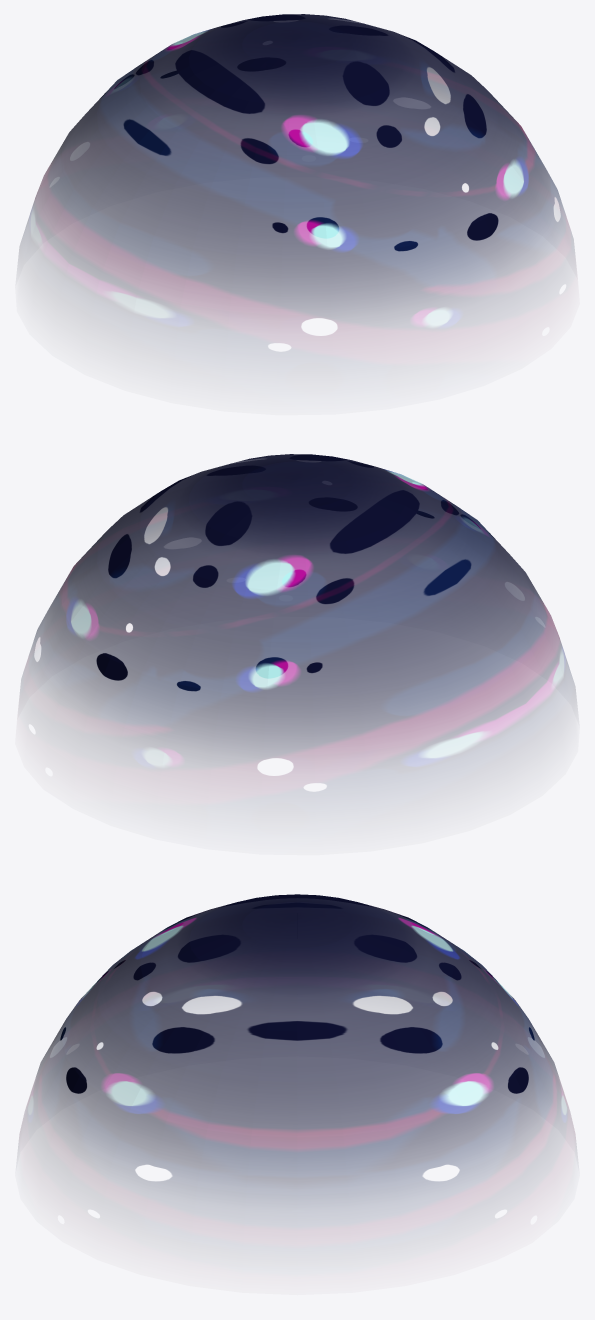
Rendered from 28-universe.glb.
3 views of the same model, one above another, from view 1: azimuth 30°, elevation 25°; view 2: azimuth 150°, elevation 25°; view 3: azimuth 270°, elevation 25° (orthographic).
Parts seen in each view (by area): view 1: universe.001; view 2: universe.001; view 3: universe.001.
Part boxes in pixels (left/top/right/bottom): universe.001: left=18, top=14, right=574, bottom=345; universe.001: left=20, top=454, right=576, bottom=785; universe.001: left=19, top=894, right=575, bottom=1225.
Bounding box in the file's own units: 5.8 × 3 × 5.8.
Materials: 1 (1 with a texture image).
